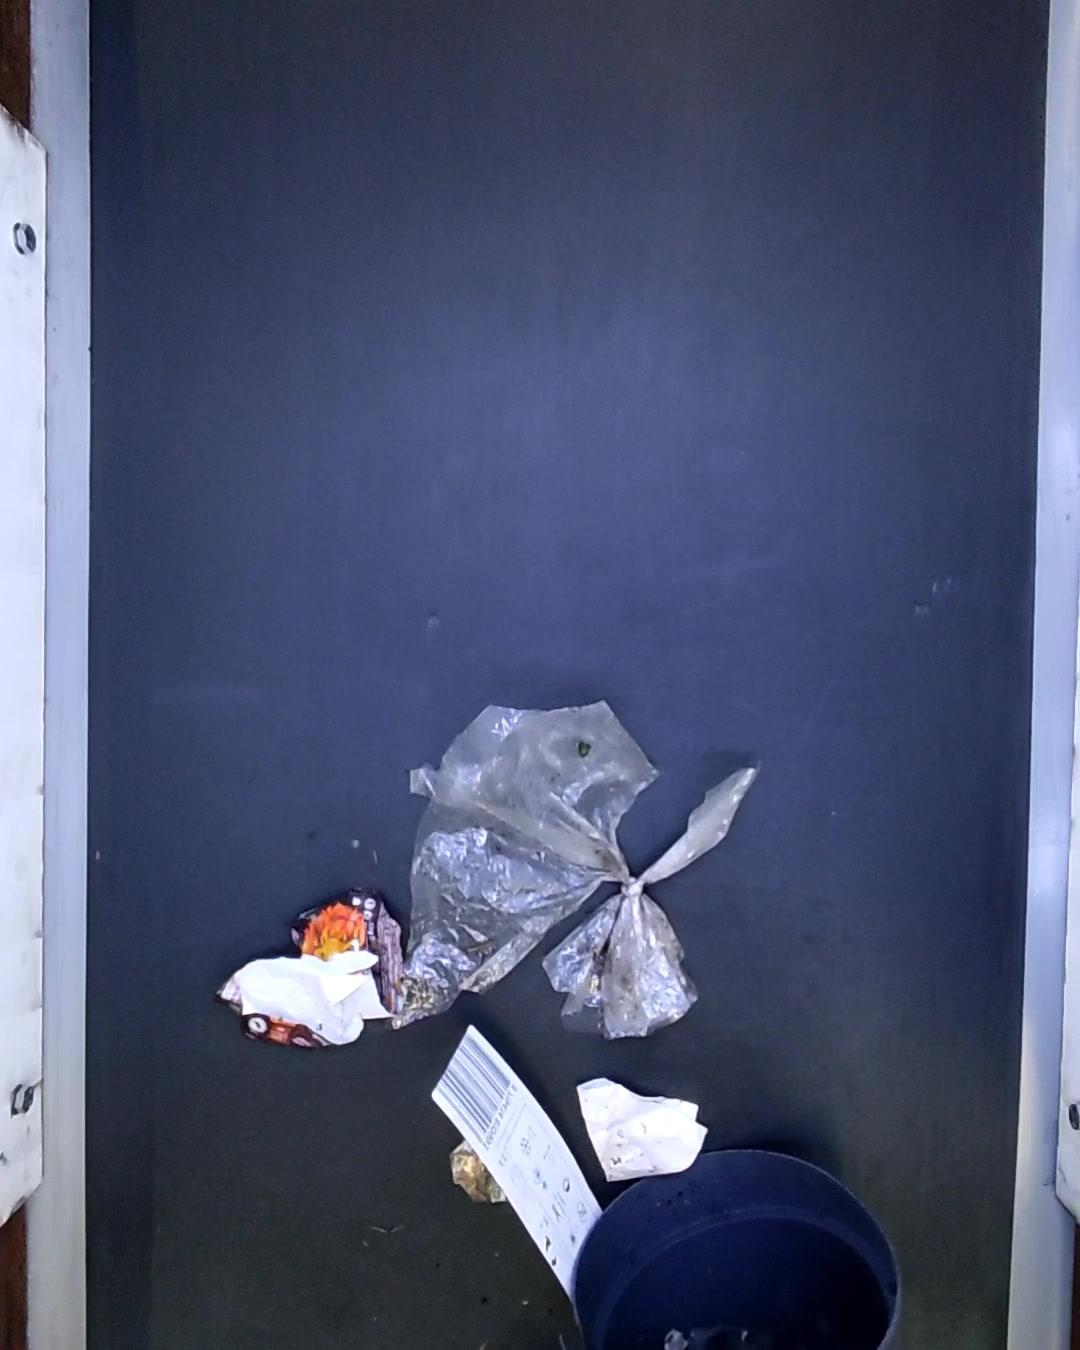Plastic folies of stukken daarvan 2.5- 50 cm: (398, 692, 757, 1044)
Snoep snack en chips verpakkingen: (213, 885, 407, 1057)
